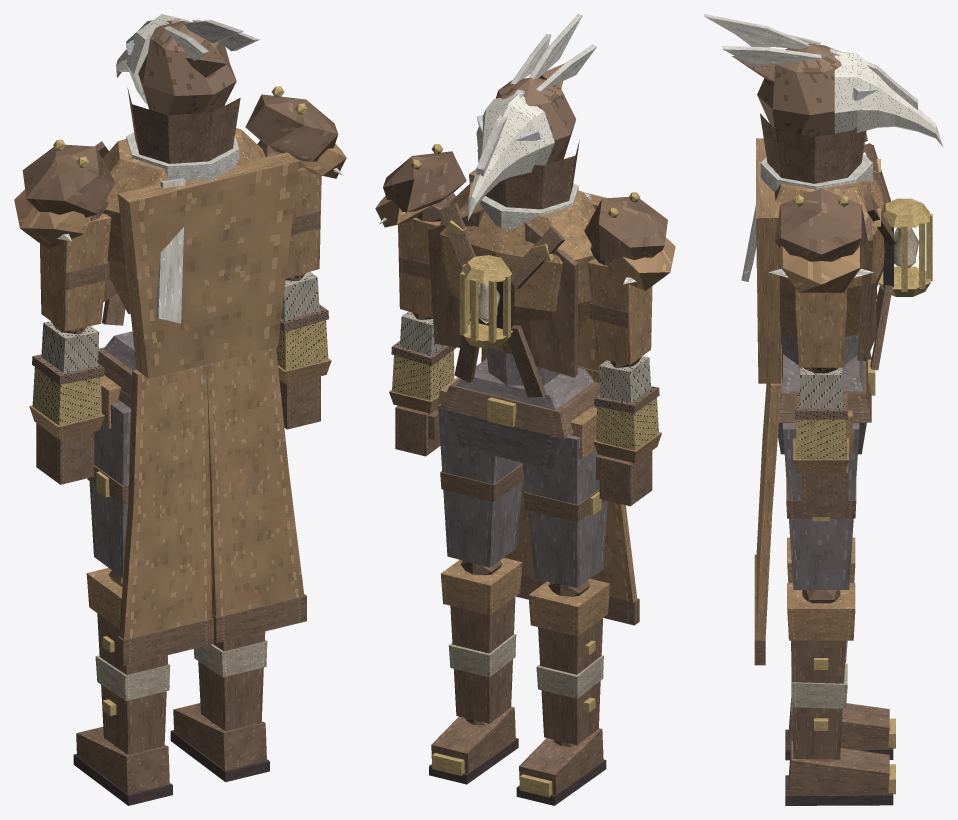
The model's file is shrike.gltf.
The picture shows the model from 3 angles, left to right: view 1: azimuth 30°, elevation 25°; view 2: azimuth 150°, elevation 25°; view 3: azimuth 270°, elevation 25°; orthographic projection. The views are drawn at different scales.
Visible parts, largest first — view 1: torso, coat_l, coat_r, shin_l, head, upper_arm_l, forearm_l, shin_r, thigh_l, foot_l, foot_r, trim (+6 smaller); view 2: torso, pelvis, shin_l, shin_r, thigh_l, thigh_r, head, upper_arm_l, forearm_l, foot_l, foot_r, forearm_r (+7 smaller); view 3: torso, head, shin_r, thigh_r, foot_r, forearm_r, upper_arm_r, coat_r, pelvis, crest, hand_r, foot_l (+4 smaller).
Boxes of the visible parts, bbox=[...] form: torso: bbox=[14, 86, 346, 378]; coat_l: bbox=[117, 364, 213, 665]; coat_r: bbox=[207, 347, 306, 643]; shin_l: bbox=[86, 568, 170, 754]; head: bbox=[116, 14, 236, 115]; upper_arm_l: bbox=[40, 198, 111, 330]; forearm_l: bbox=[32, 321, 104, 425]; shin_r: bbox=[193, 631, 267, 731]; thigh_l: bbox=[87, 401, 130, 577]; foot_l: bbox=[73, 726, 172, 805]; foot_r: bbox=[170, 703, 269, 782]; trim: bbox=[57, 132, 342, 323]; torso: bbox=[375, 140, 675, 397]; pelvis: bbox=[439, 358, 599, 469]; shin_l: bbox=[528, 579, 609, 745]; shin_r: bbox=[441, 558, 522, 723]; thigh_l: bbox=[522, 435, 607, 587]; thigh_r: bbox=[438, 404, 524, 567]; head: bbox=[467, 63, 575, 220]; upper_arm_l: bbox=[587, 245, 652, 364]; forearm_l: bbox=[594, 356, 659, 450]; foot_l: bbox=[516, 728, 606, 805]; foot_r: bbox=[429, 707, 518, 784]; forearm_r: bbox=[391, 311, 456, 400]; torso: bbox=[756, 113, 932, 383]; head: bbox=[732, 44, 942, 146]; shin_r: bbox=[787, 583, 855, 759]; thigh_r: bbox=[783, 423, 859, 589]; foot_r: bbox=[785, 741, 895, 805]; forearm_r: bbox=[794, 367, 847, 459]; upper_arm_r: bbox=[795, 288, 847, 367]; coat_r: bbox=[754, 353, 781, 665]; pelvis: bbox=[778, 352, 875, 454]; crest: bbox=[704, 14, 917, 109]; hand_r: bbox=[793, 438, 848, 516]; foot_l: bbox=[785, 698, 895, 760].
Size of the model in its own units: 0.794 by 1.86 by 0.532.
22 materials, 22 textured.
